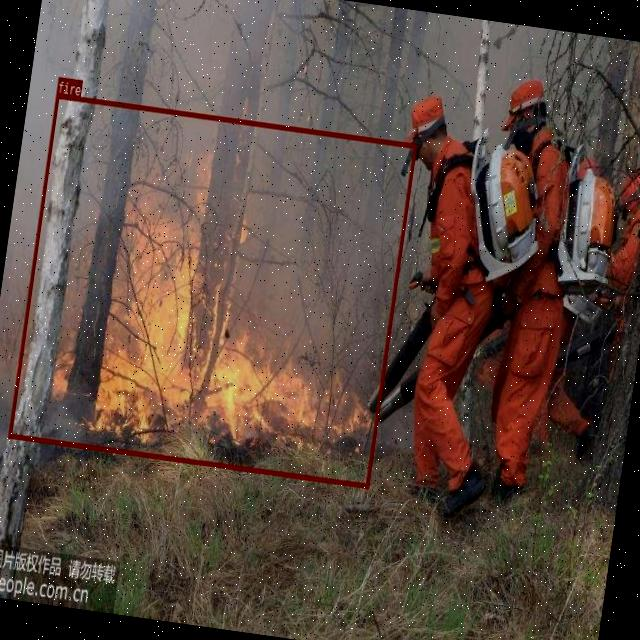fire: (8, 93, 416, 487)
